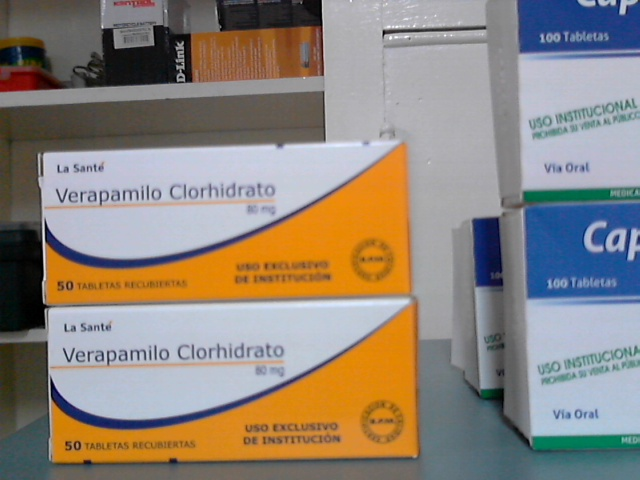LaSante: (47, 147, 411, 303), (51, 306, 420, 458)
